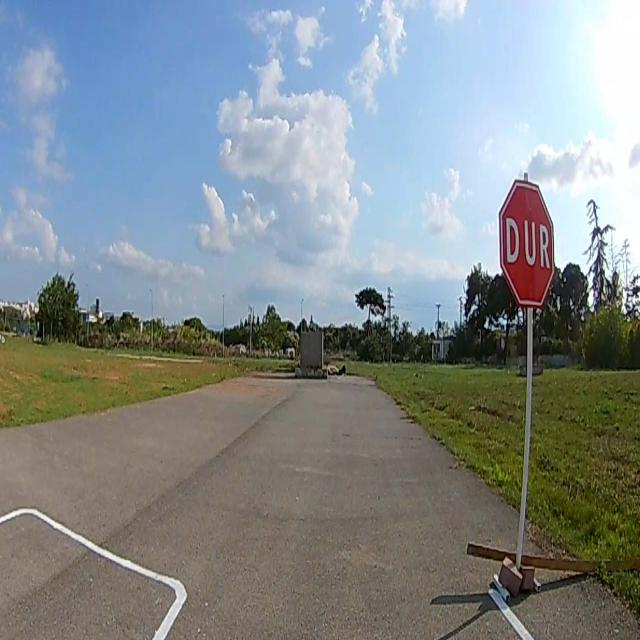dur: (499, 181, 555, 307)
